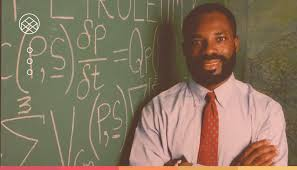black_male: (183, 1, 246, 91)
